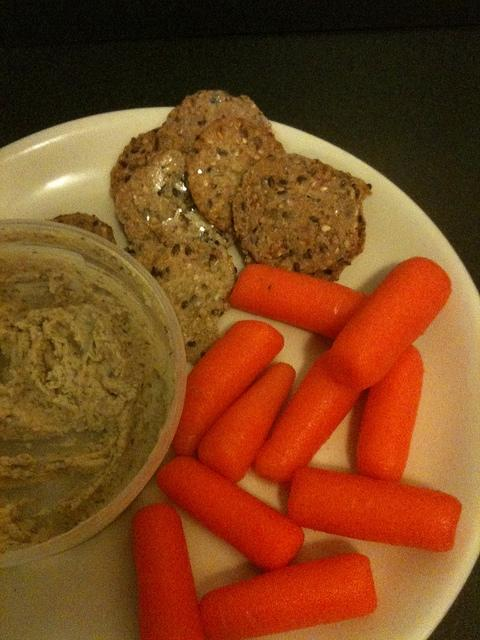carrot: (158, 456, 306, 572), (328, 256, 452, 391), (170, 320, 285, 459), (199, 553, 377, 640), (287, 466, 462, 552), (255, 348, 362, 484), (198, 362, 298, 483), (230, 263, 370, 340), (132, 504, 204, 638), (357, 345, 424, 483)
